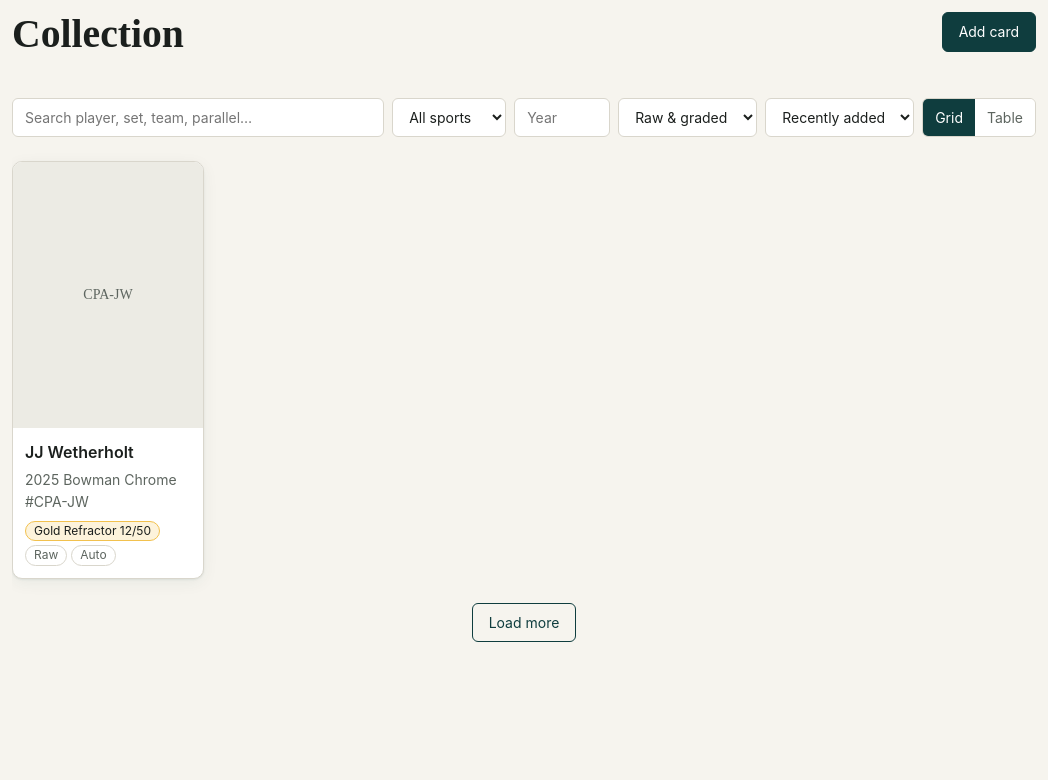
CollectionPage › pages with Load more
Click the button "Load more": {"x": 524, "y": 623} [472,603,576,642]
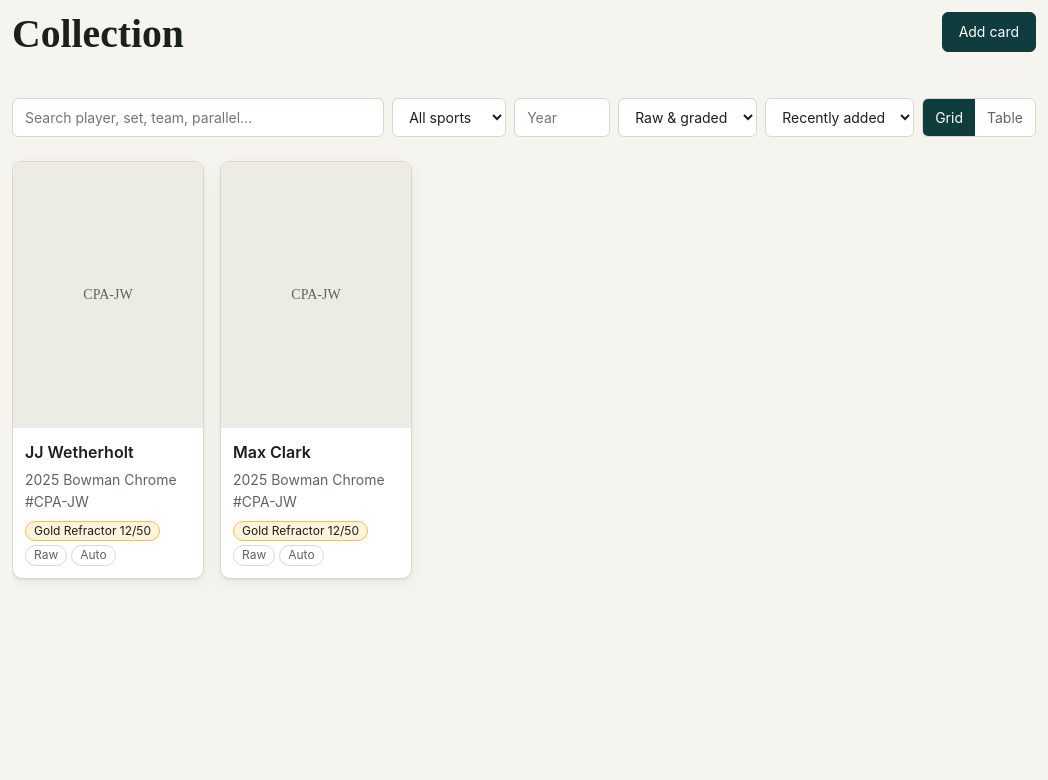
Now the text "Max Clark" is shown, box [233,442,311,462]
Now the button "Load more" is gone
